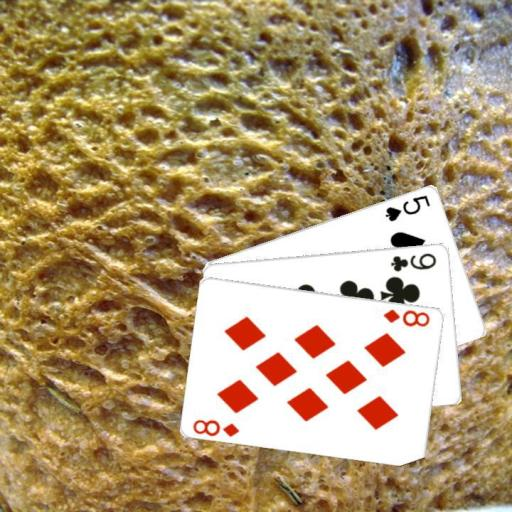5S: (383, 191, 432, 223)
8D: (381, 306, 432, 329), (190, 415, 241, 438)
9C: (388, 249, 438, 273)
